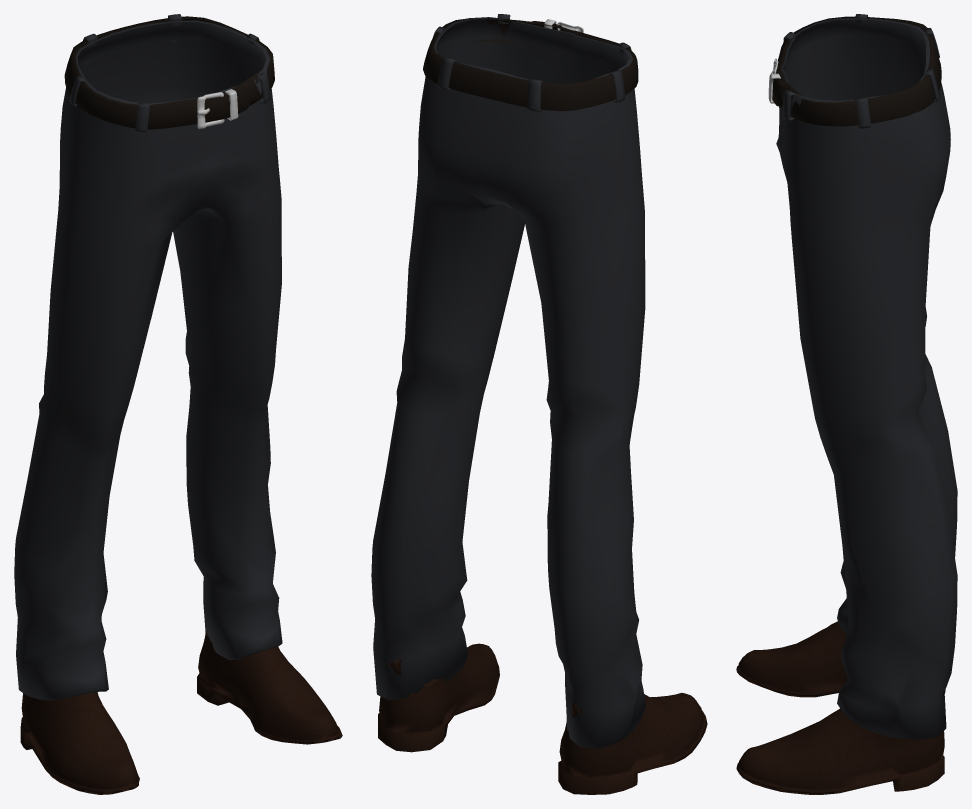
File: 231101_G_Leg_03.glb
3 renders of one model, left to right at view 1: azimuth 30°, elevation 25°; view 2: azimuth 150°, elevation 25°; view 3: azimuth 270°, elevation 25°, orthographic. The views are drawn at different scales.
Parts seen in each view (by area): view 1: G_Leg_03; view 2: G_Leg_03; view 3: G_Leg_03.
Part boxes in pixels (x1,y1,x2,y2): G_Leg_03: [14, 14, 342, 794]; G_Leg_03: [371, 14, 707, 794]; G_Leg_03: [736, 14, 957, 794].
Bounding box in the file's own units: 0.4518 × 1.1 × 0.3229.
Materials: 1 (1 with a texture image).
